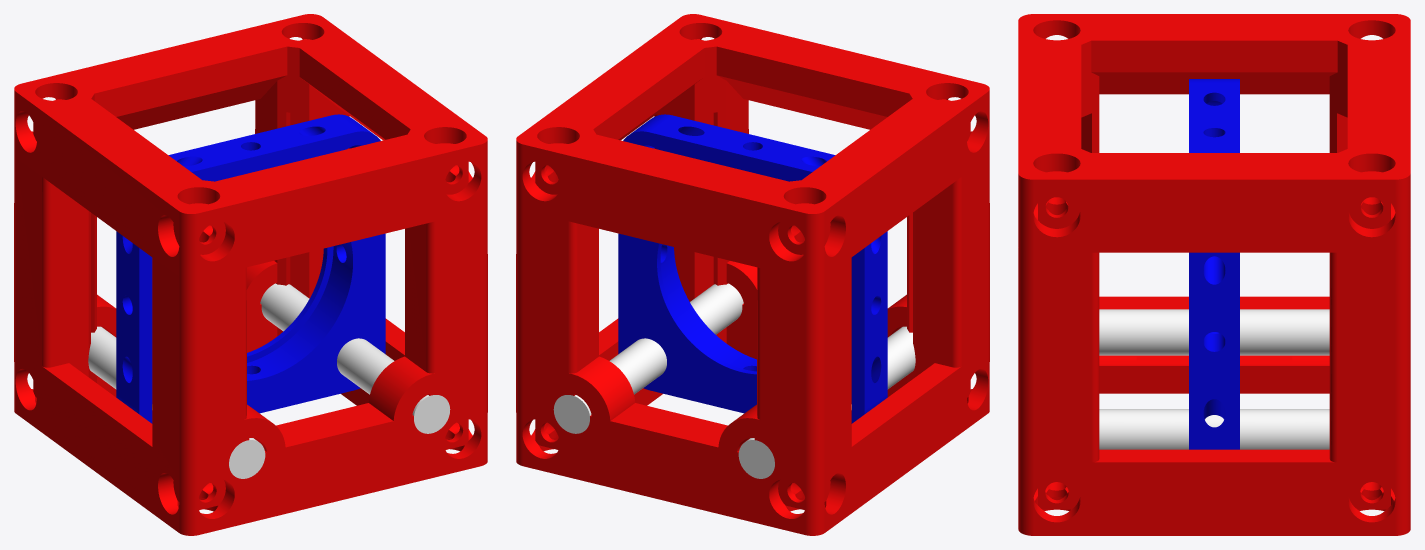
Rendered from Cube 1x1 (Lense).fbx.
The picture shows the model from 3 angles, left to right: view 1: azimuth 30°, elevation 25°; view 2: azimuth 150°, elevation 25°; view 3: azimuth 270°, elevation 25°; orthographic projection. The views are drawn at different scales.
Visible parts, largest first — view 1: Base Cube 1x1 (Lense); view 2: Base Cube 1x1 (Lense); view 3: Base Cube 1x1 (Lense).
Boxes of the visible parts, x1,y1,x2,y2 form: Base Cube 1x1 (Lense): [14, 14, 487, 535]; Base Cube 1x1 (Lense): [516, 14, 989, 535]; Base Cube 1x1 (Lense): [1018, 14, 1410, 535].
Bounding box in the file's own units: 4.98 × 4.99 × 4.98.
